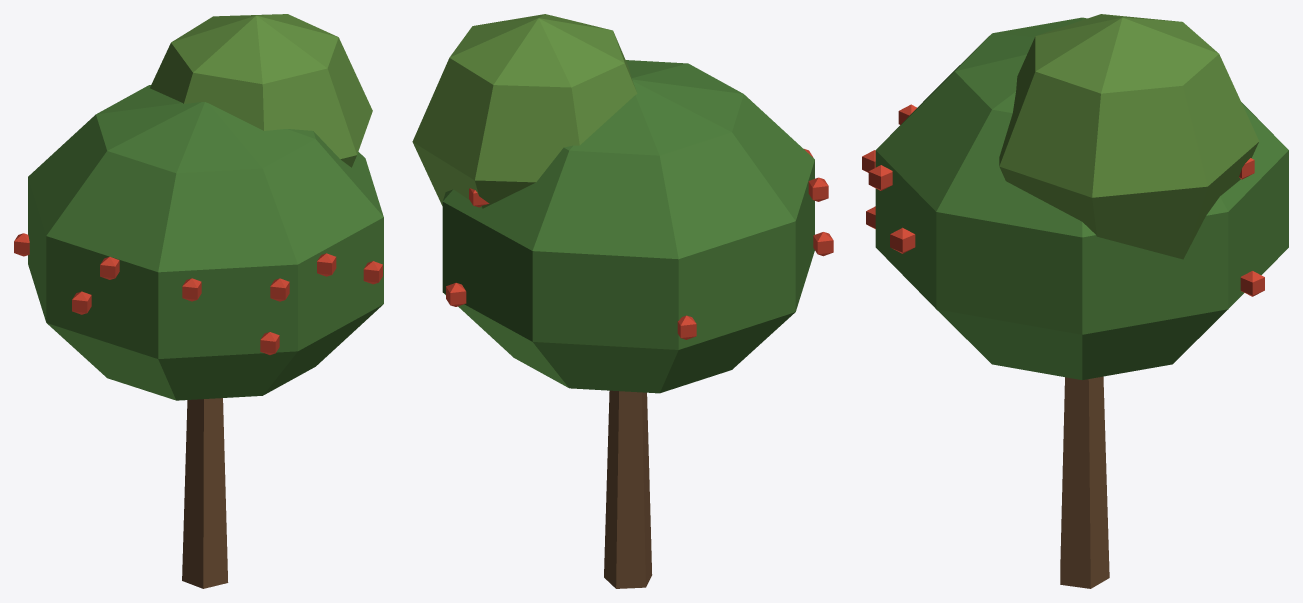
Rendered from fruit_tree.glb.
3 renders of one model, left to right at view 1: azimuth 30°, elevation 25°; view 2: azimuth 150°, elevation 25°; view 3: azimuth 270°, elevation 25°, orthographic. The views are drawn at different scales.
Parts seen in each view (by area): view 1: fruit_tree; view 2: fruit_tree; view 3: fruit_tree.
Part boxes in pixels (x1=…): fruit_tree: x1=14, y1=14, x2=383, y2=588; fruit_tree: x1=412, y1=14, x2=833, y2=588; fruit_tree: x1=862, y1=14, x2=1288, y2=588.
Bounding box in the file's own units: 2.7 × 4.1 × 2.65.
